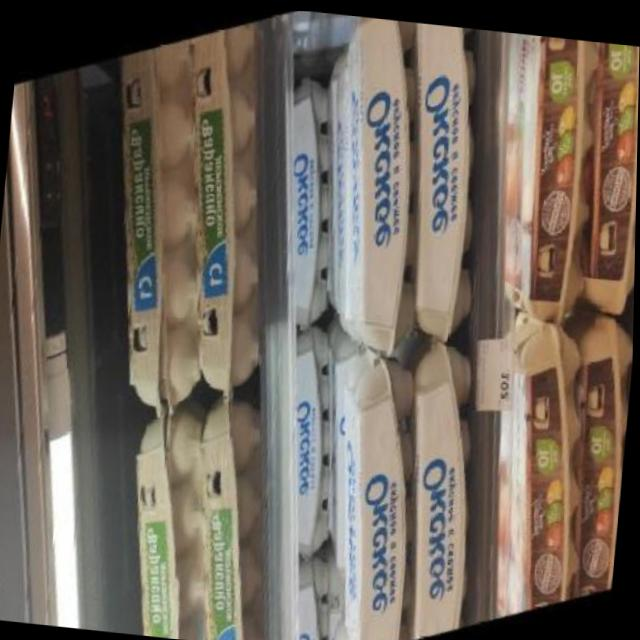Egg: (89, 29, 233, 423), (159, 14, 294, 406), (473, 26, 631, 345), (313, 10, 451, 363), (374, 16, 511, 351), (381, 323, 508, 640), (482, 299, 609, 615), (316, 335, 444, 640), (114, 394, 237, 640), (179, 380, 295, 640), (545, 33, 640, 323), (550, 285, 635, 595), (268, 63, 357, 333), (275, 315, 354, 556)
